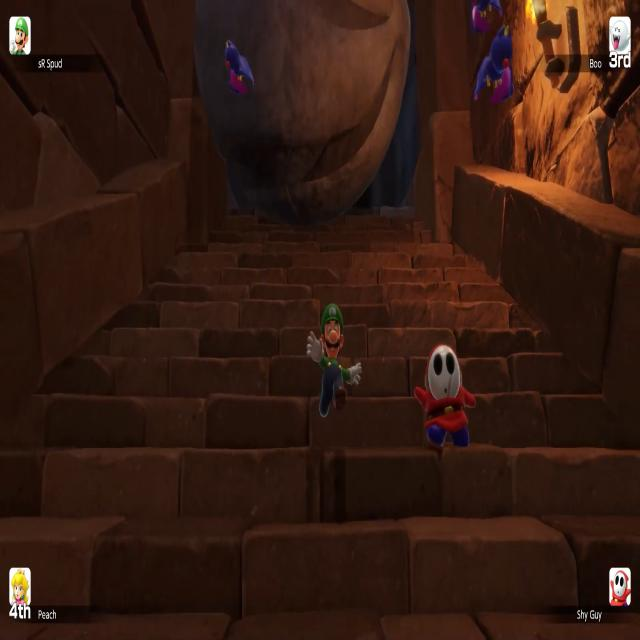Luigi: (307, 305, 362, 417)
Shy Guy: (414, 344, 478, 458)
rolling stone: (195, 0, 410, 222)
